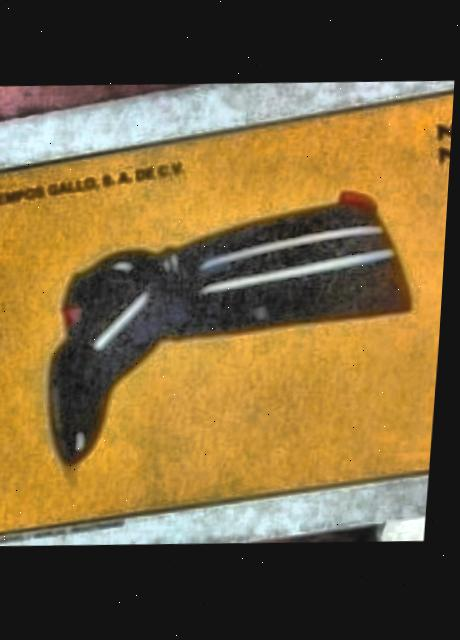La Bota: (0, 94, 455, 534)
